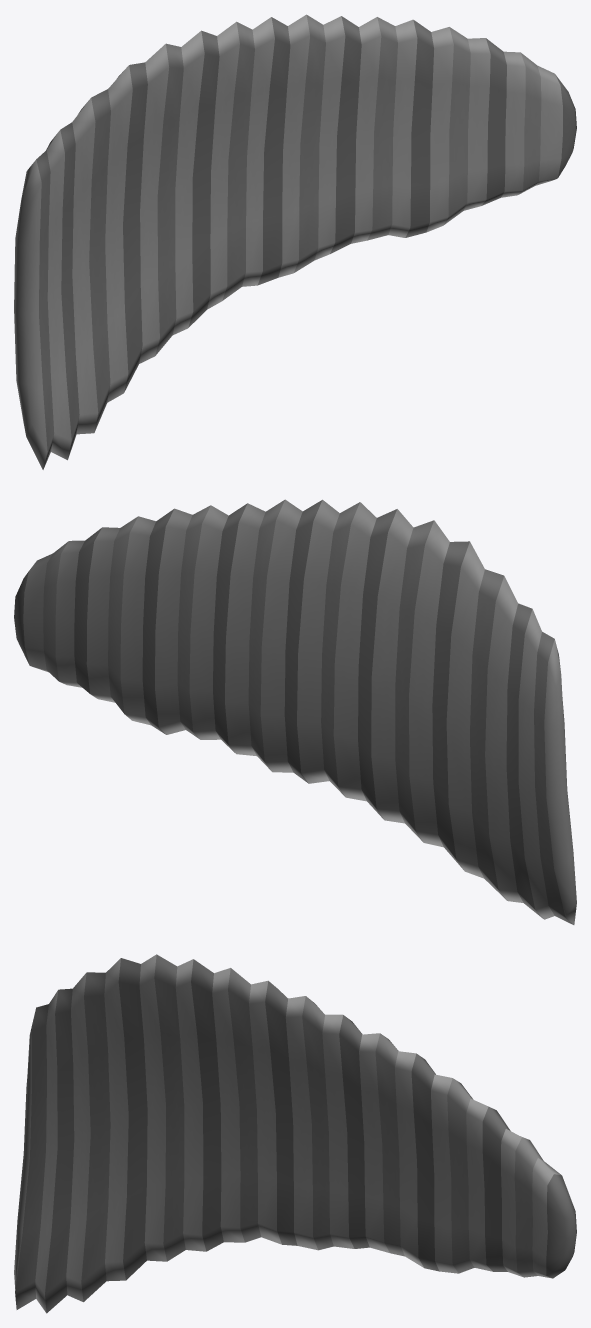
File: Ingredient_Wing.fbx
3 views of the same model, one above another, from view 1: azimuth 30°, elevation 25°; view 2: azimuth 150°, elevation 25°; view 3: azimuth 330°, elevation 25° (orthographic).
Visible parts, largest first — view 1: Ingredient_Wing; view 2: Ingredient_Wing; view 3: Ingredient_Wing.
Boxes of the visible parts, x1,y1,x2,y2 form: Ingredient_Wing: (14,14,576,469); Ingredient_Wing: (14,499,576,924); Ingredient_Wing: (14,954,576,1313).
Size of the model in its own units: 116 by 77.13 by 15.48.
1 material, 1 textured.
